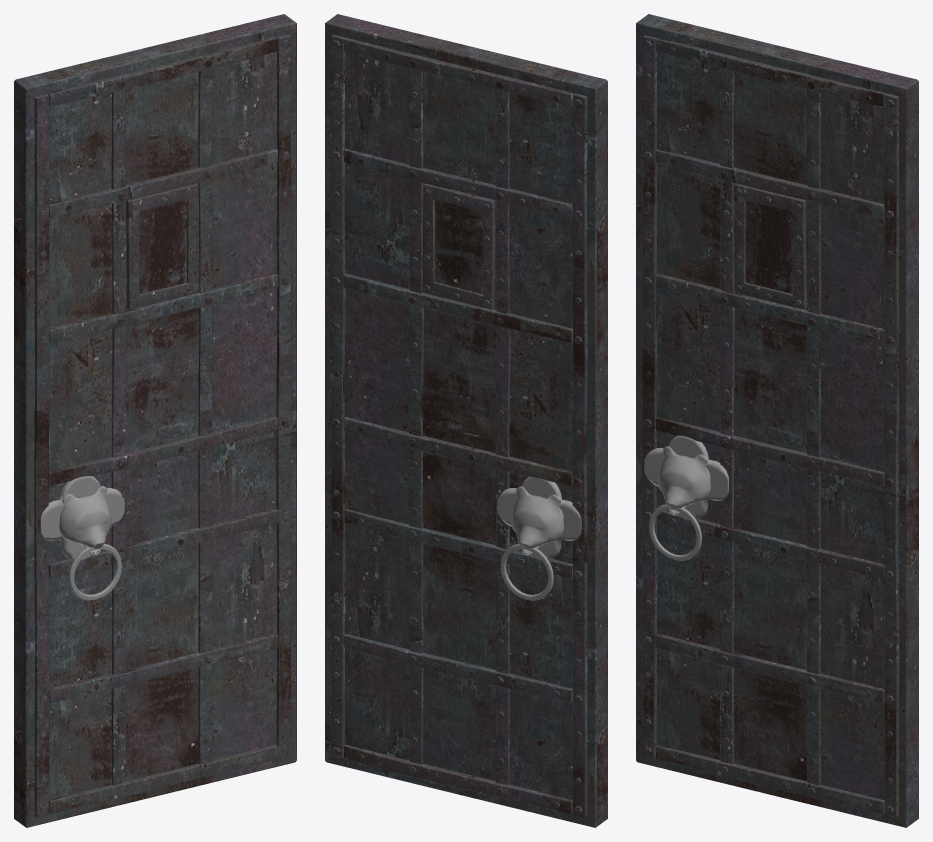
The model's file is SM_DoorD_R.FBX.
3 renders of one model, left to right at view 1: azimuth 30°, elevation 25°; view 2: azimuth 150°, elevation 25°; view 3: azimuth 330°, elevation 25°, orthographic.
Parts seen in each view (by area): view 1: SM_DoorD_R_LOD0; view 2: SM_DoorD_R_LOD0; view 3: SM_DoorD_R_LOD0.
Part boxes in pixels (x1,y1,x2,y2): SM_DoorD_R_LOD0: [14, 14, 296, 827]; SM_DoorD_R_LOD0: [325, 14, 607, 827]; SM_DoorD_R_LOD0: [636, 14, 918, 827].
Size of what is drawn, in the model's own units: 78 by 203 by 26.12.
